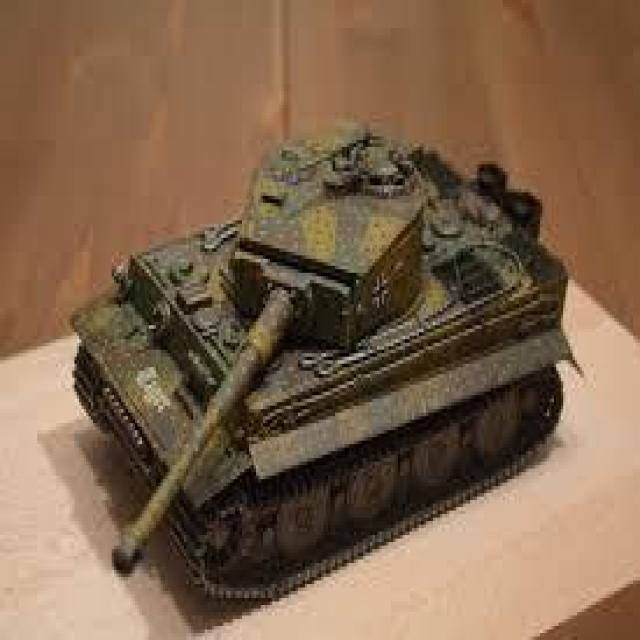MIL_MBT: (30, 75, 607, 614)
